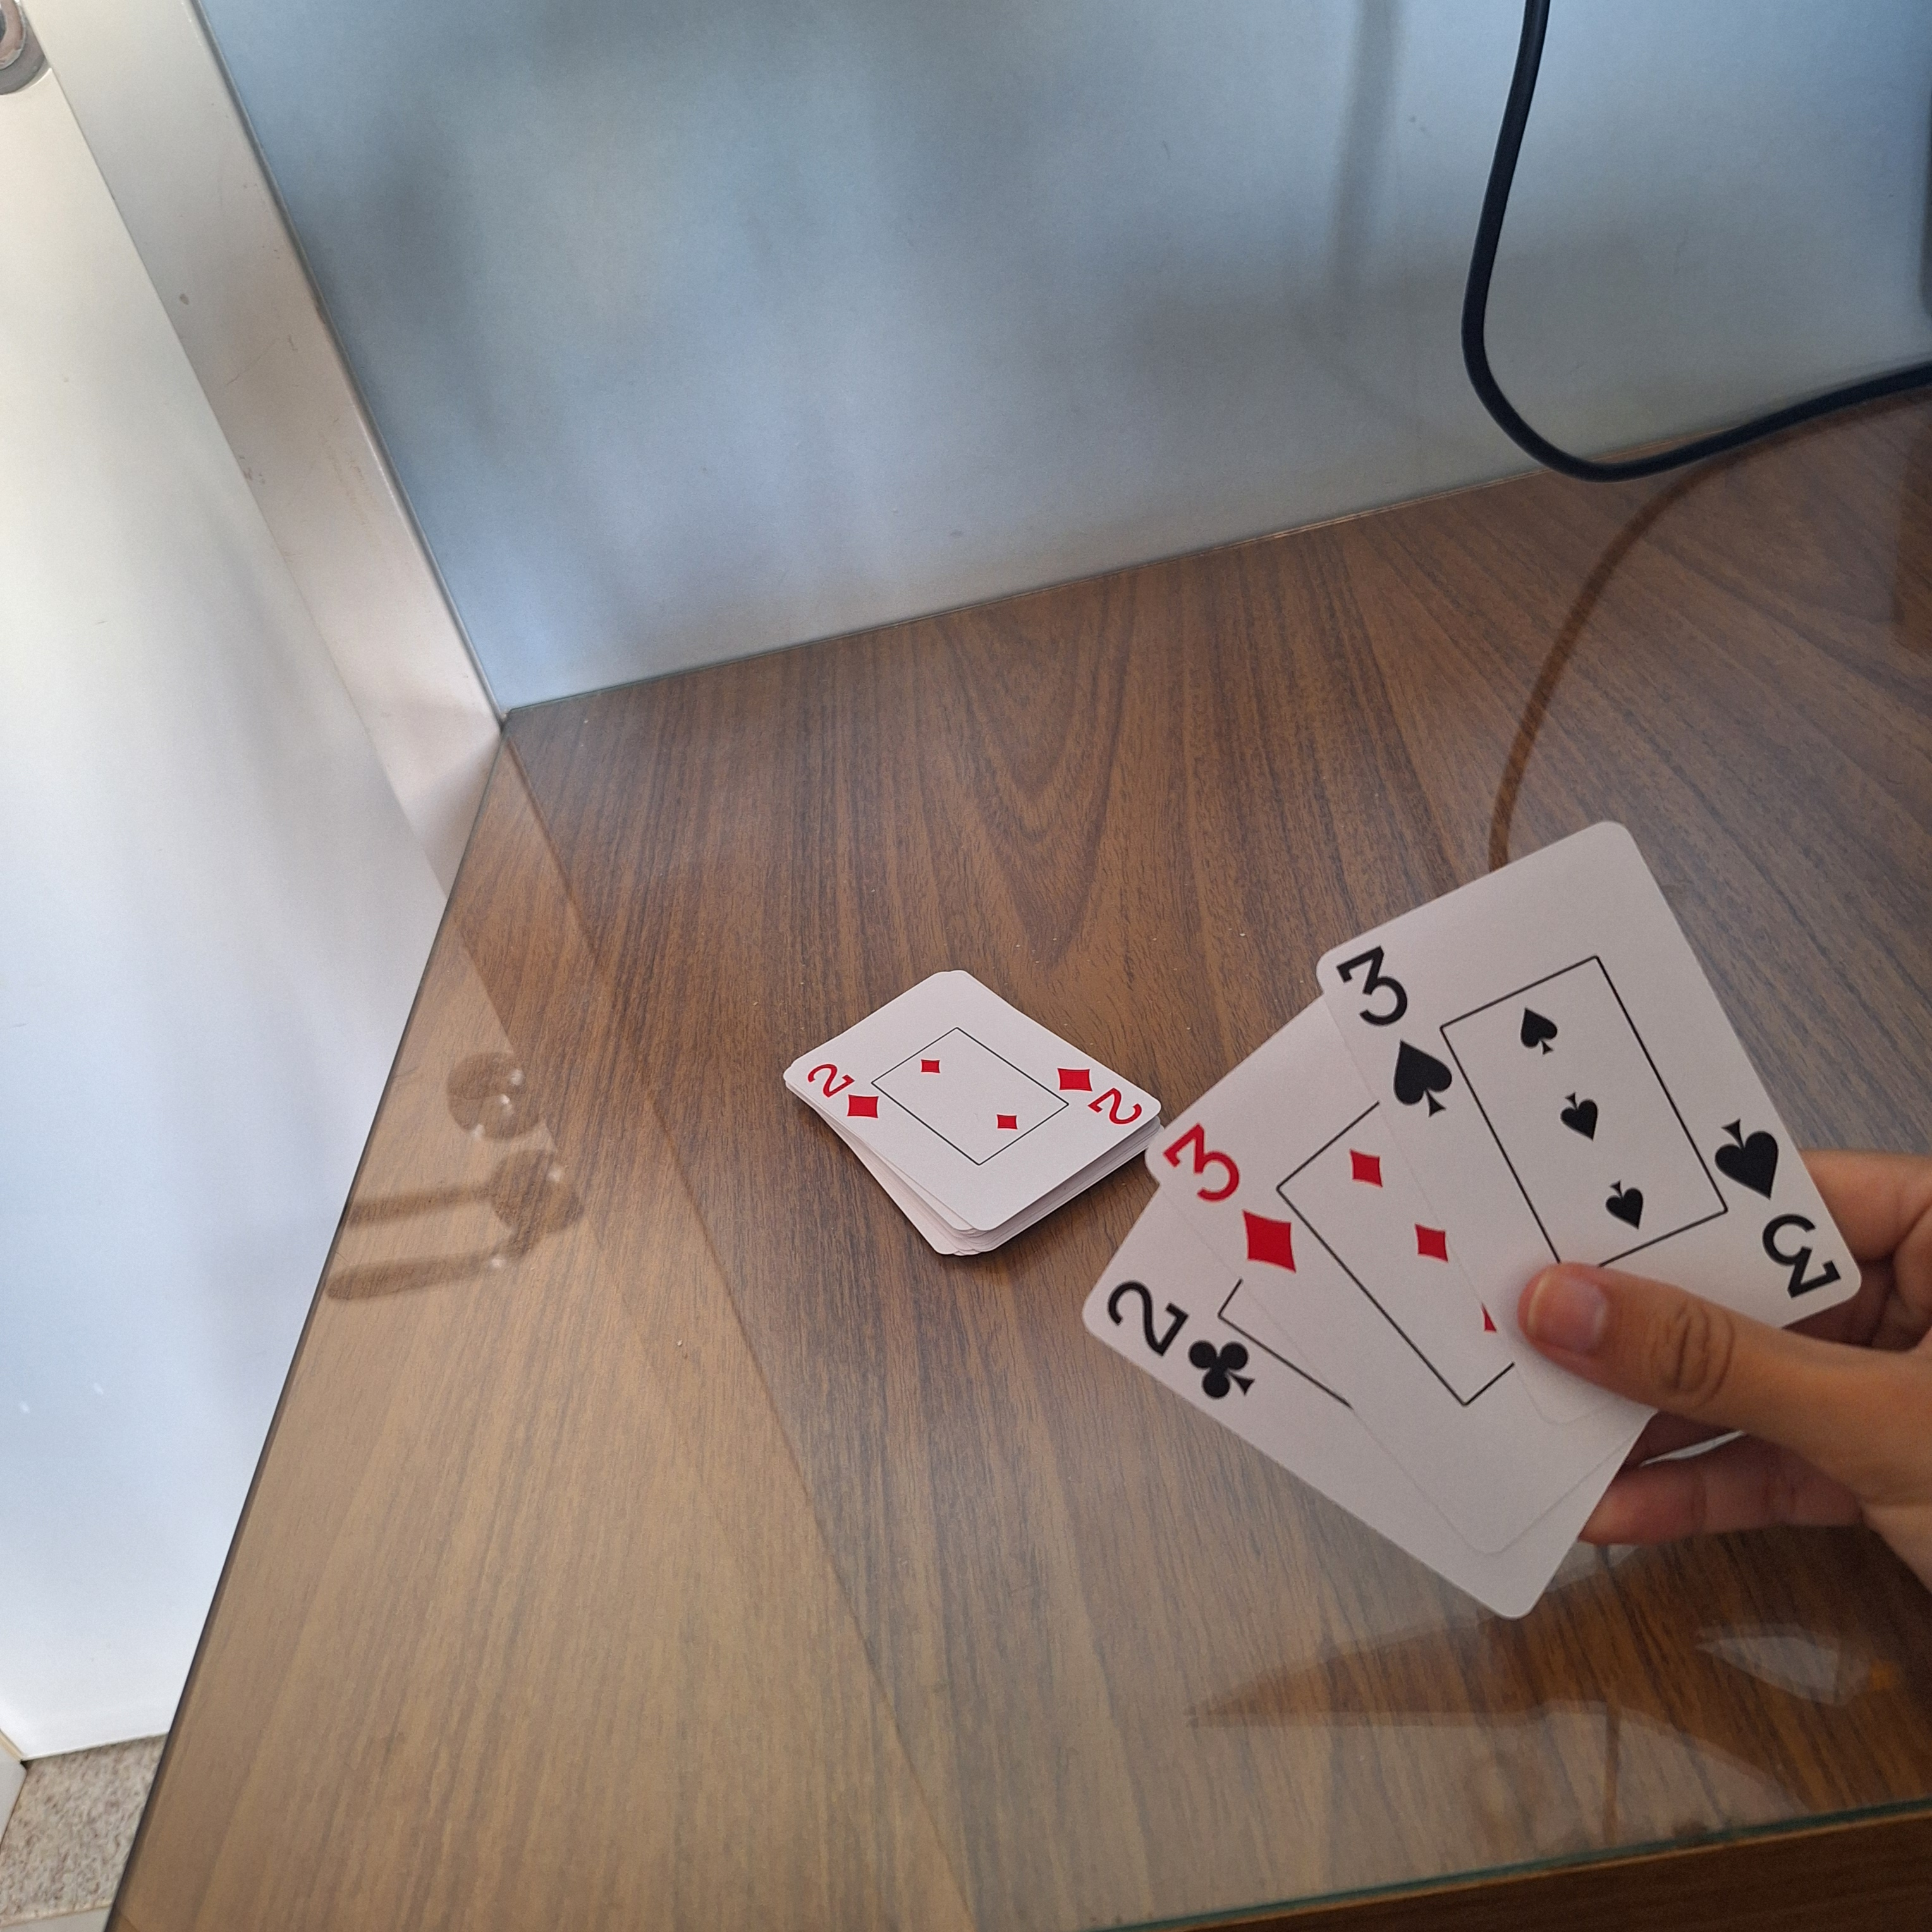2O: (1049, 1060, 1146, 1132), (798, 1051, 886, 1127)
2P: (1102, 1267, 1260, 1410)
3E: (1711, 1113, 1856, 1309), (1327, 936, 1465, 1125)
3O: (1155, 1113, 1306, 1279)
